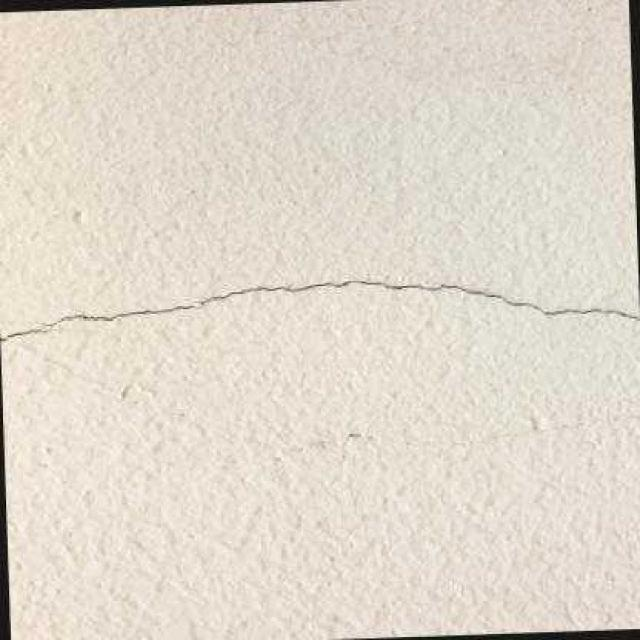D00: (0, 278, 640, 339)
